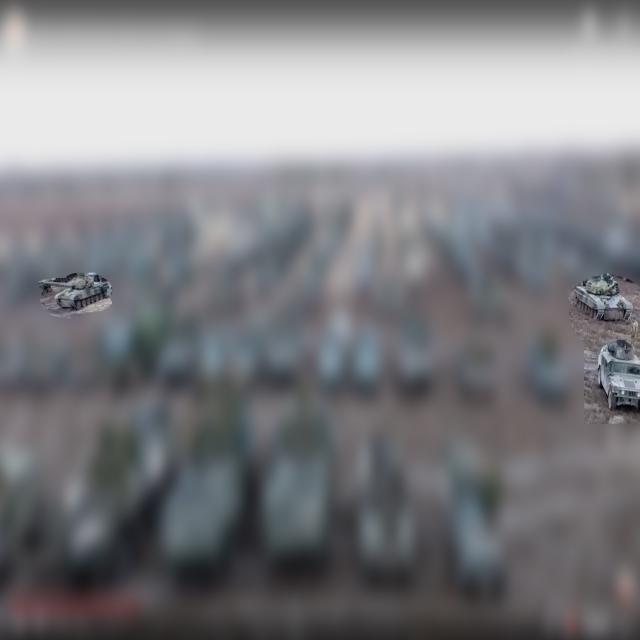tank: (36, 272, 113, 319), (572, 274, 634, 323)
